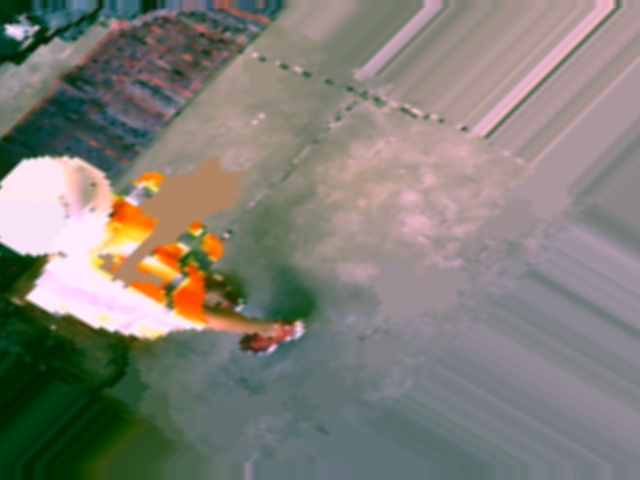eight: (9, 189, 78, 240)
